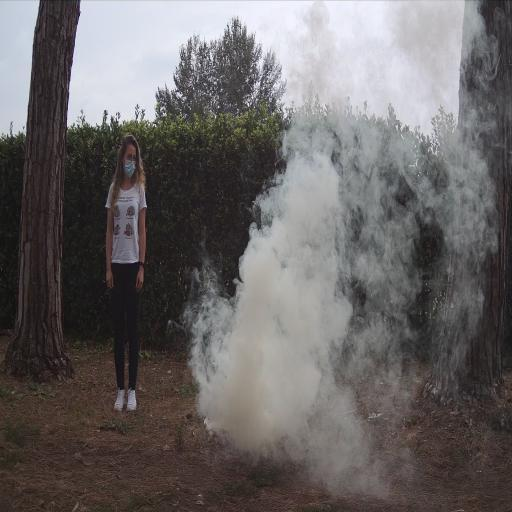leakage: (163, 0, 512, 509)
